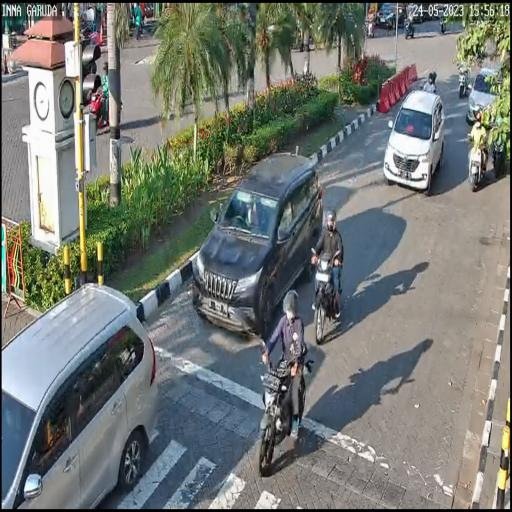mobil: (0, 286, 159, 512), (192, 152, 324, 338), (382, 89, 444, 196), (468, 67, 500, 122)
motor: (258, 341, 312, 478), (310, 247, 343, 346), (466, 130, 488, 194)
